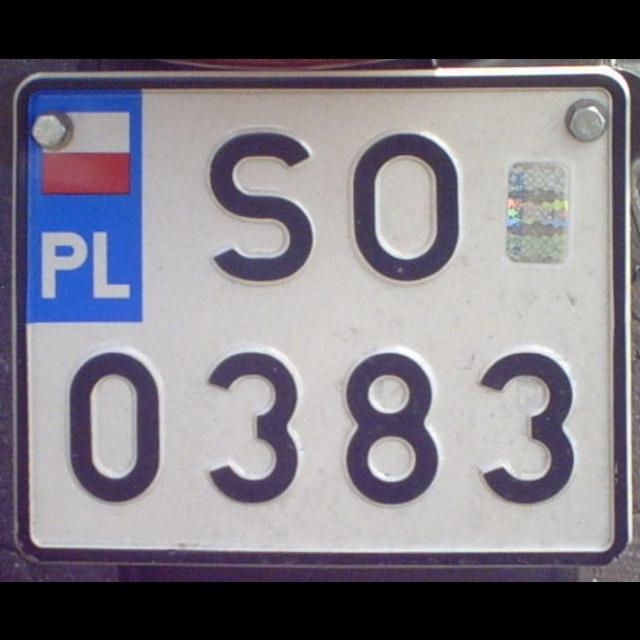pl_license_plate: (22, 80, 620, 556)
